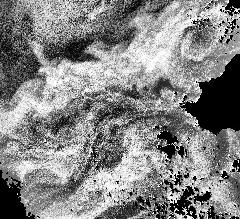AE: (179, 10, 226, 62)
